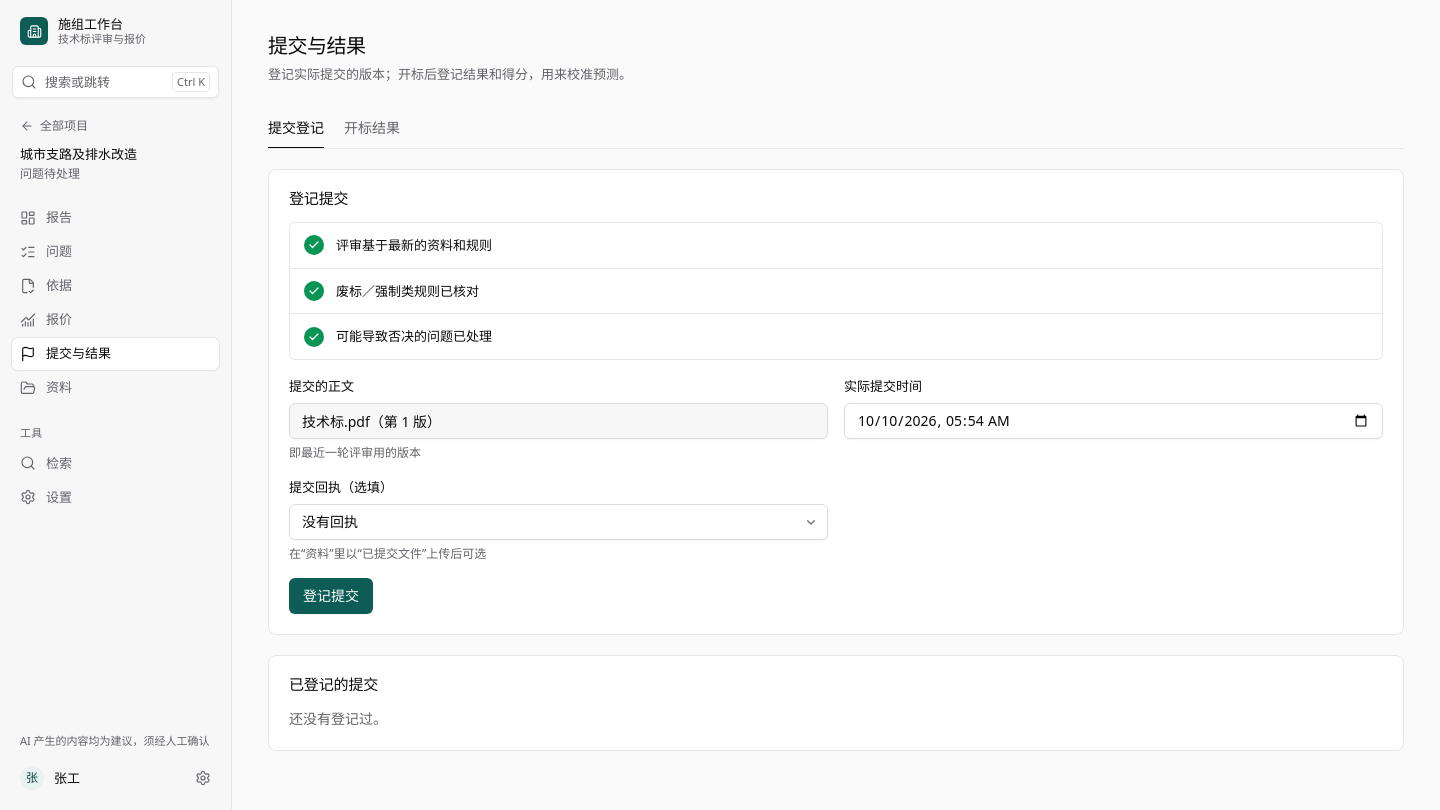
Test: 提交与结果页：登记提交 › 409 qualification_rules_unconfirmed：显示后端消息、补一句下一步并逐项列出未满足的条件
The width and height of the screenshot is (1440, 810).
Replace the text in the field labelled "实际提交时间" with "2026-10-05T10:00" at (1114, 421), box left=844, top=403, right=1383, bottom=439
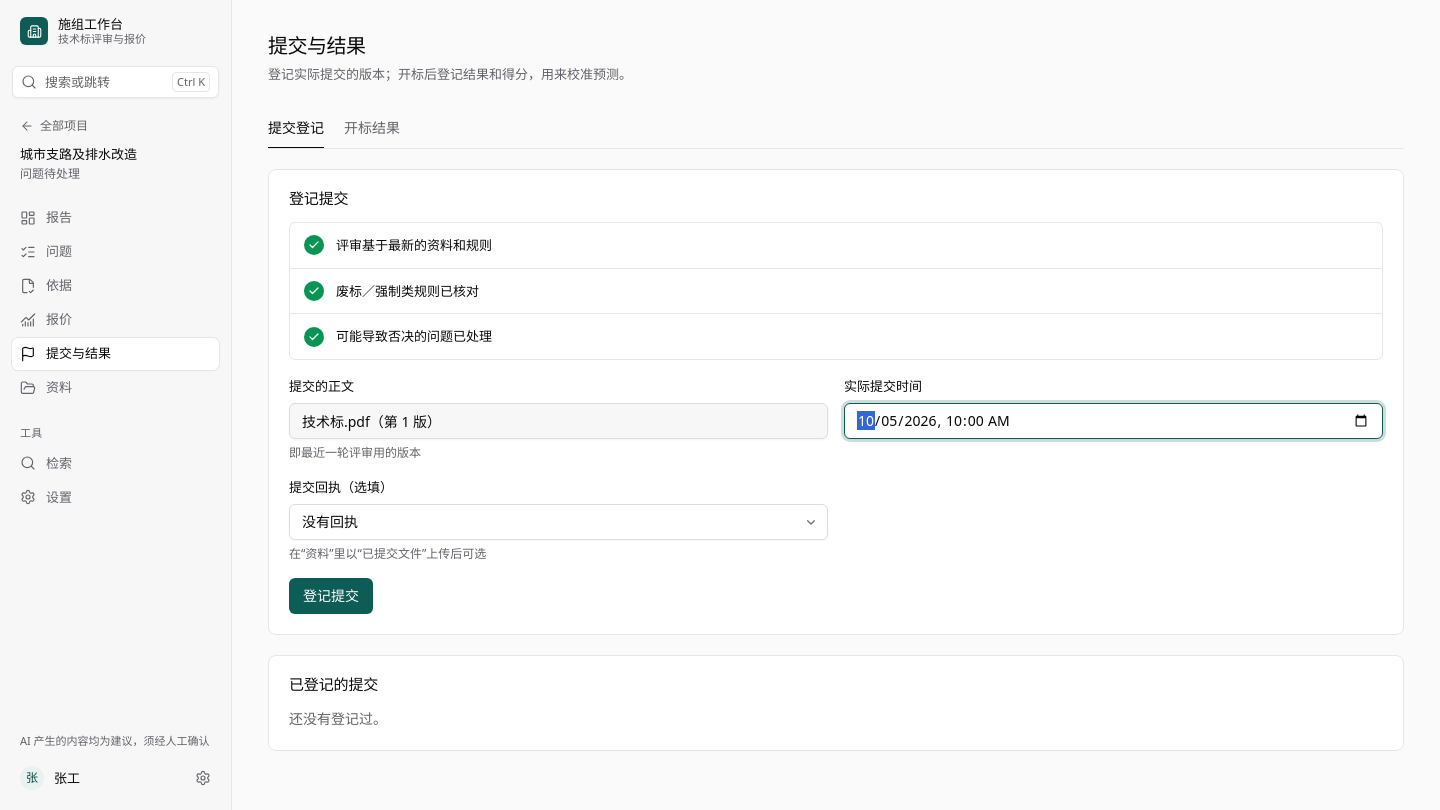
Click the button "登记提交".
click(331, 596)  # box left=289, top=578, right=373, bottom=614
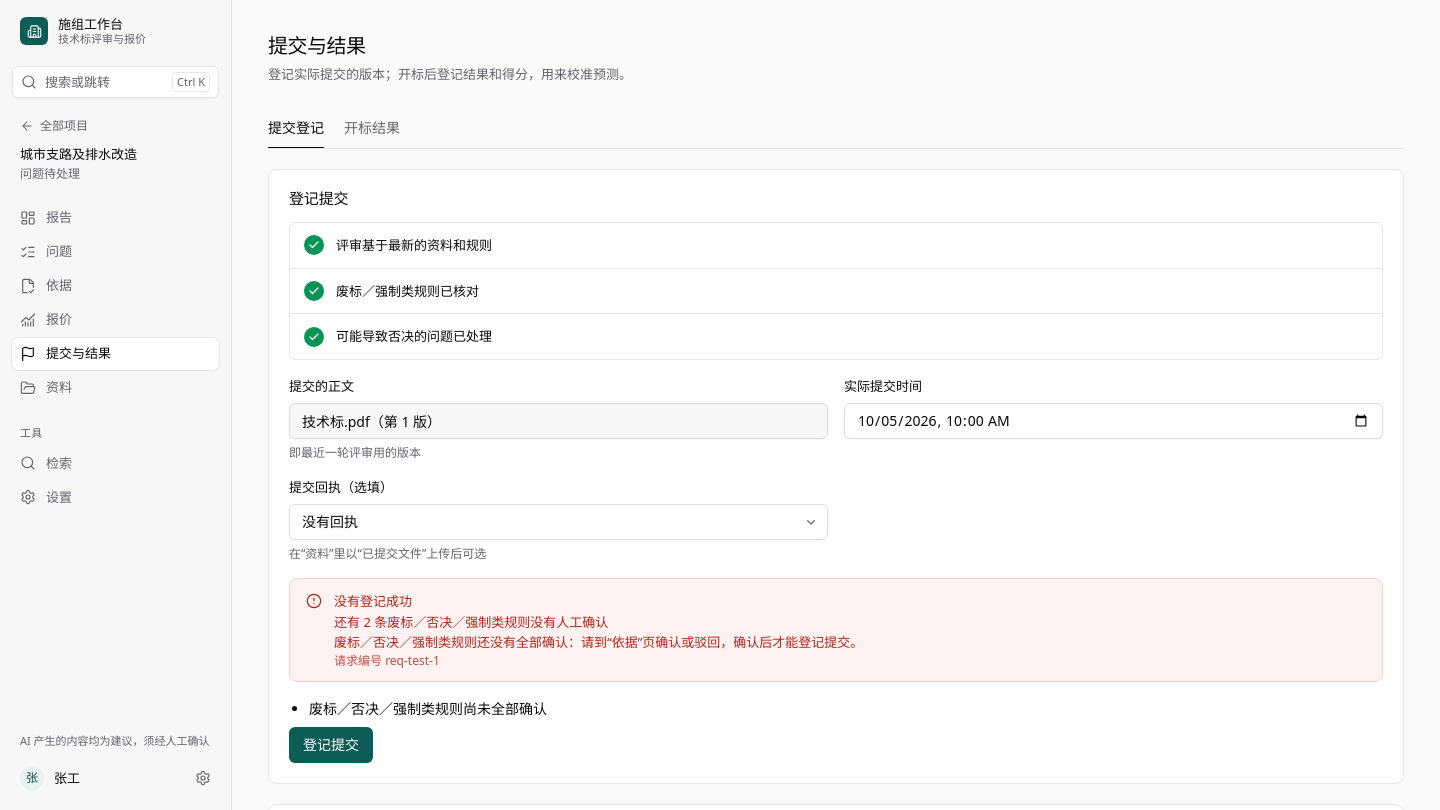
Now the text "还有 2 条废标／否决／强制类规则没有人工确认" is shown, box left=334, top=613, right=608, bottom=631
Now the text "废标／否决／强制类规则还没有全部确认：请到“依据”页确认或驳回，确认后才能登记提交。" is shown, box left=334, top=633, right=863, bottom=651
Now the list item "废标／否决／强制类规则尚未全部确认" is shown, box left=309, top=699, right=547, bottom=718
